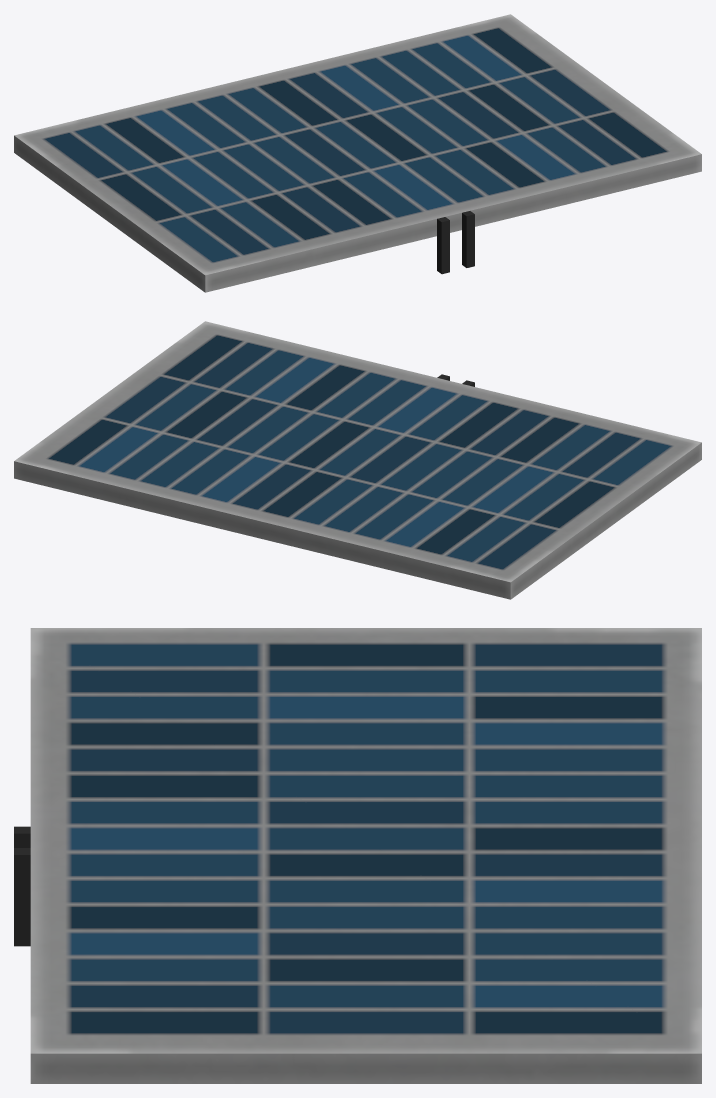
The model's file is vega_solar_srf_1_panel_3.obj.
The picture shows the model from 3 angles, top to bottom: view 1: azimuth 30°, elevation 25°; view 2: azimuth 150°, elevation 25°; view 3: azimuth 270°, elevation 25°; orthographic projection. The views are drawn at different scales.
Visible parts, largest first — view 1: vega_solar_srf_1_panel_3; view 2: vega_solar_srf_1_panel_3; view 3: vega_solar_srf_1_panel_3.
Part boxes in pixels (x1,y1,x2,y2): vega_solar_srf_1_panel_3: (14,14,701,292); vega_solar_srf_1_panel_3: (14,321,701,599); vega_solar_srf_1_panel_3: (14,628,701,1083).
Size of the model in its own units: 0.75 by 0.075 by 0.5125.
